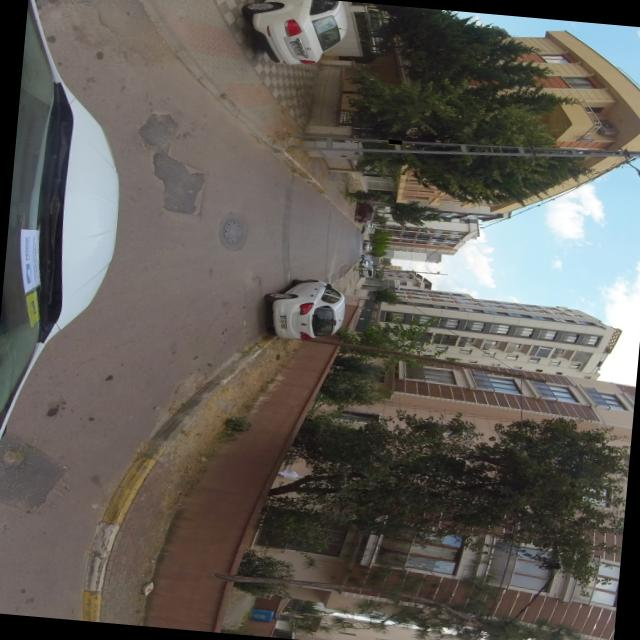Utility Pole Information Plate: (387, 140, 400, 144)
